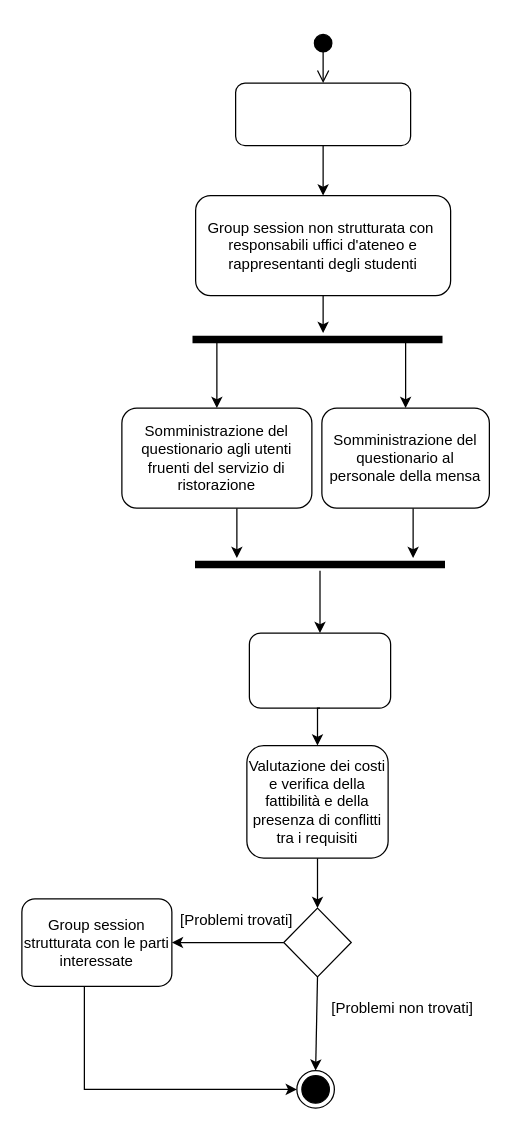
The diagram is 514 pixels wide and 1130 high, and some of its shapes have lost their labels. Here are the shapes that lost their labels. From the top down, the centre of each, then its label:
At point (322, 114): "Background study".
At point (319, 670): "Analisi dei risultati ed estrazione dei requisiti".
